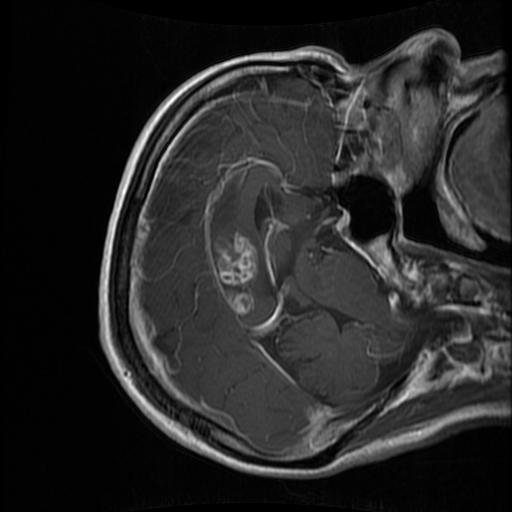glioma: (212, 235, 255, 313)
